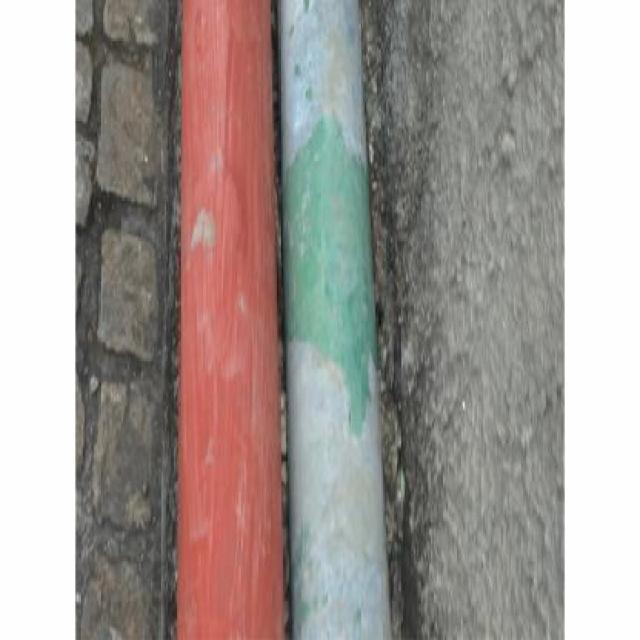gas: (173, 0, 284, 640), (277, 0, 385, 640)
